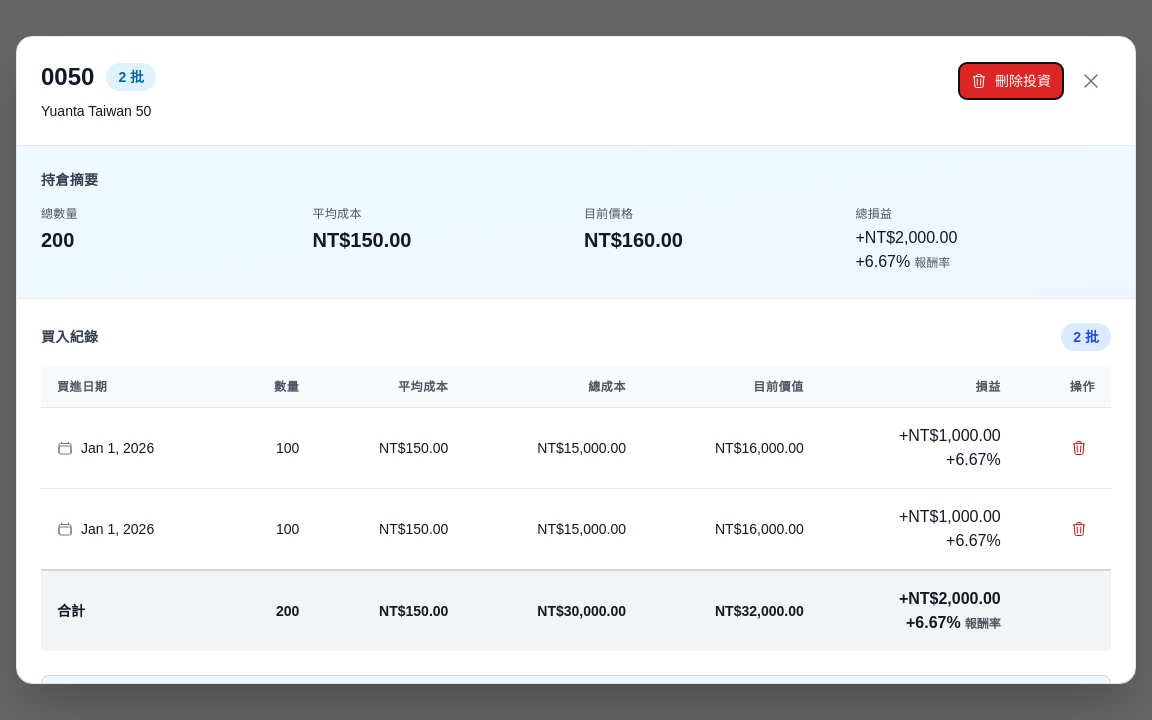
Test: HoldingDetailModal lot delete › cancels on Escape without deleting or closing the holding modal
This screenshot has width=1152, height=720.
Step 1. Click the 1st button named "刪除批次" → (1079, 448), box [1063,432,1095,464]
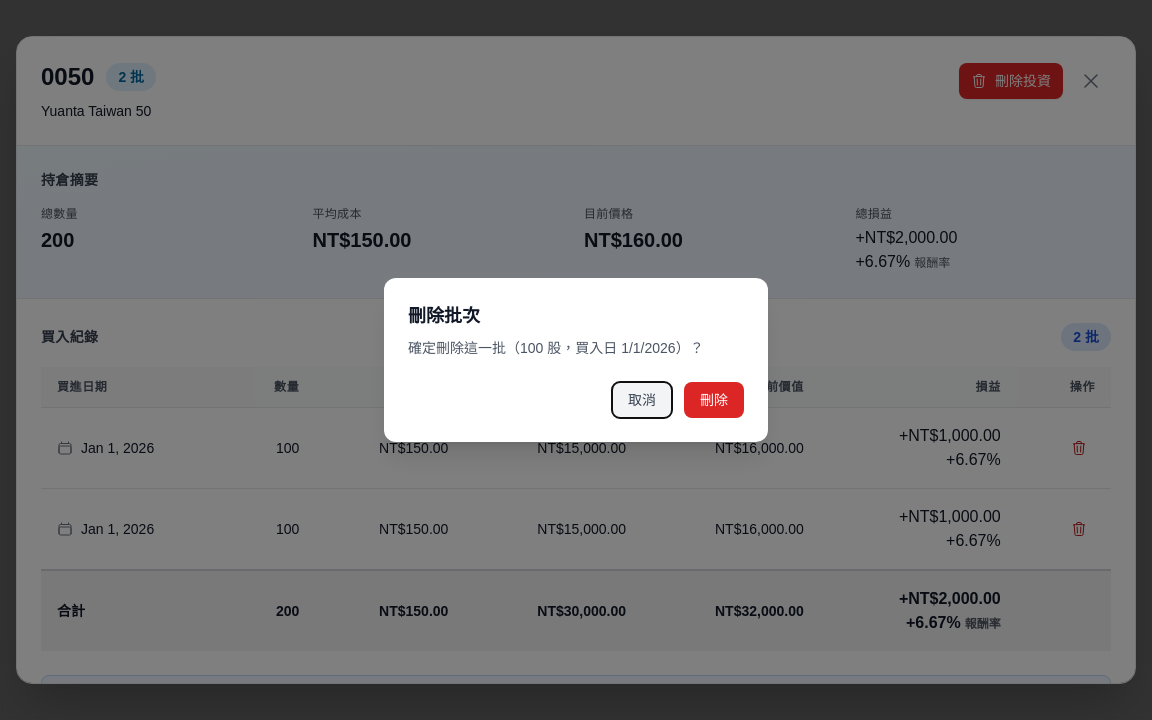
Expected: the heading "刪除批次" is shown, [408,306,480,326]
Step 2. Press Escape
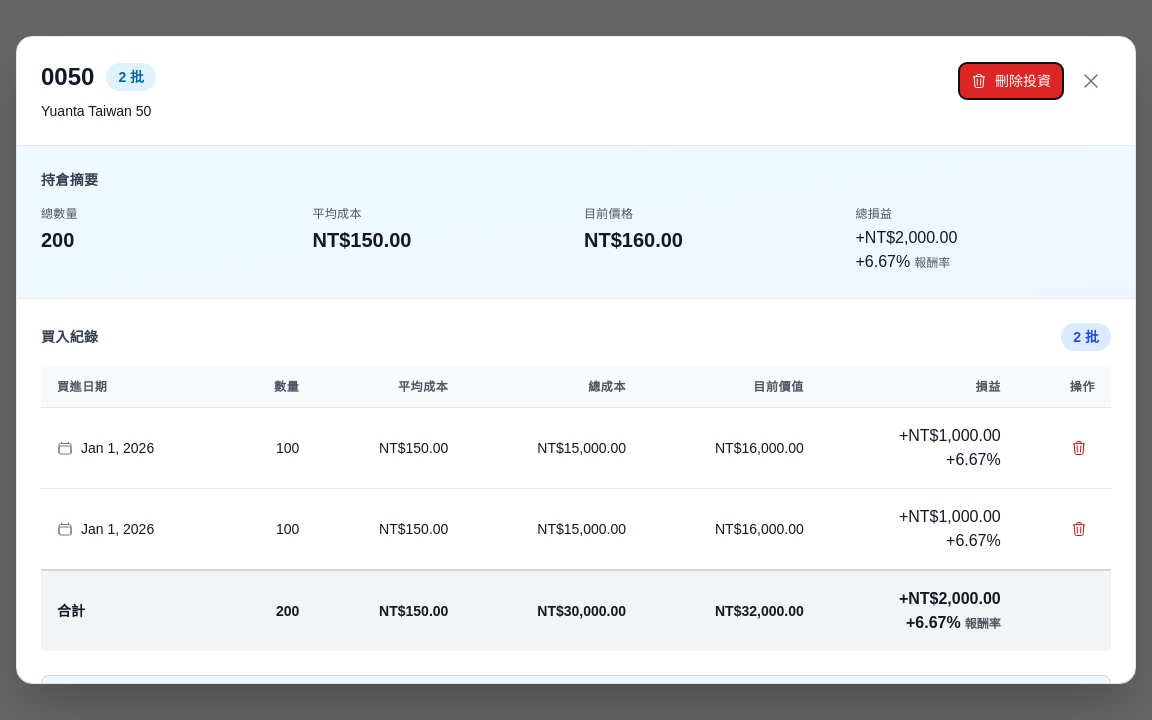
Expected: the heading "刪除批次" is gone
